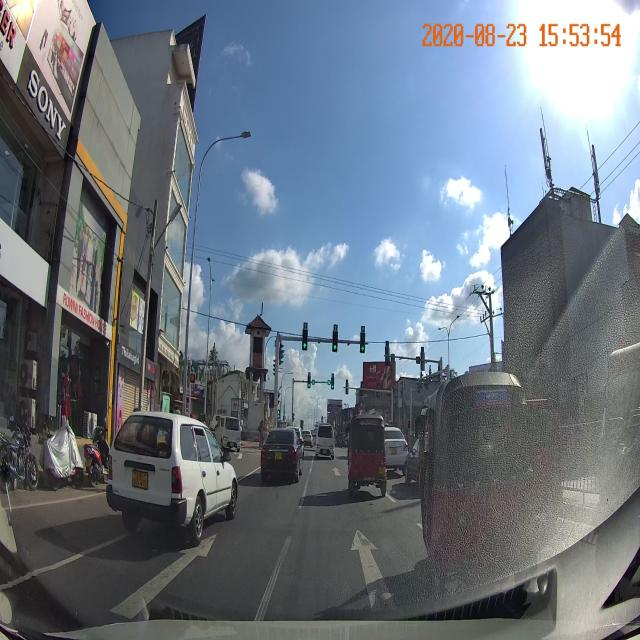forward: (257, 518, 532, 620), (308, 461, 376, 483)
